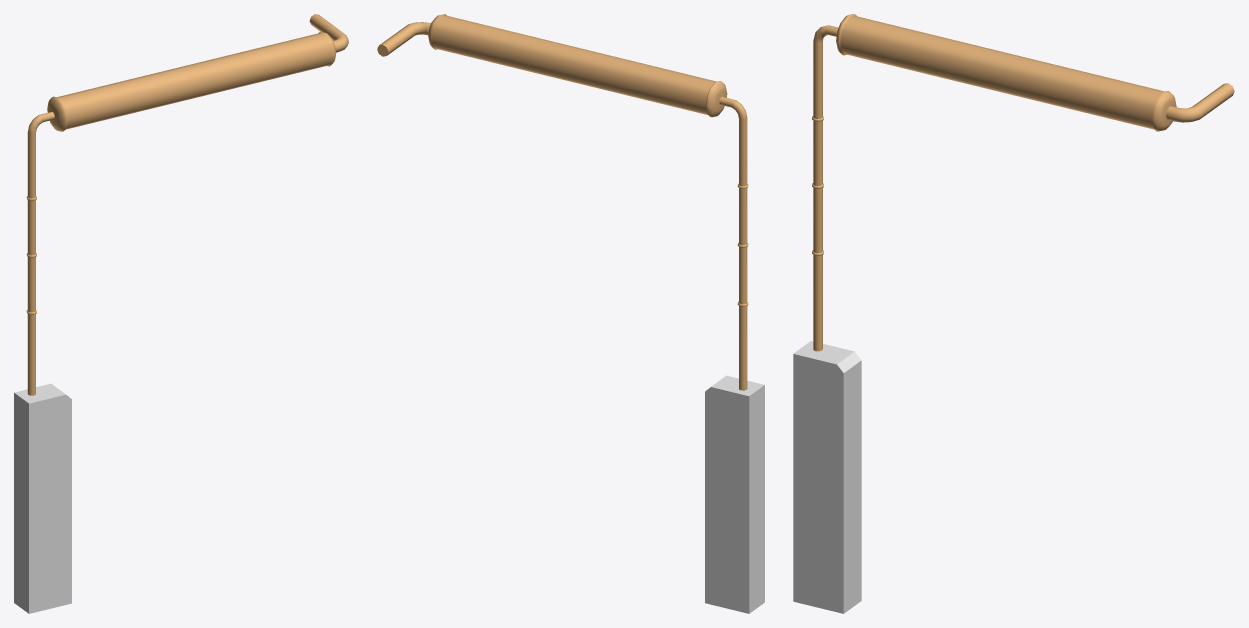
Rendered from SP_House08_Pipe04.fbx.
3 renders of one model, left to right at view 1: azimuth 30°, elevation 25°; view 2: azimuth 150°, elevation 25°; view 3: azimuth 330°, elevation 25°, orthographic. The views are drawn at different scales.
Visible parts, largest first — view 1: SP_House08_Pipe04; view 2: SP_House08_Pipe04; view 3: SP_House08_Pipe04.
Boxes of the visible parts, box(x1,y1,x2,y2) form: SP_House08_Pipe04: box(14, 14, 348, 613); SP_House08_Pipe04: box(377, 14, 764, 613); SP_House08_Pipe04: box(793, 14, 1234, 613).
Bounding box in the file's own units: 6.46 × 9.27 × 1.4.
